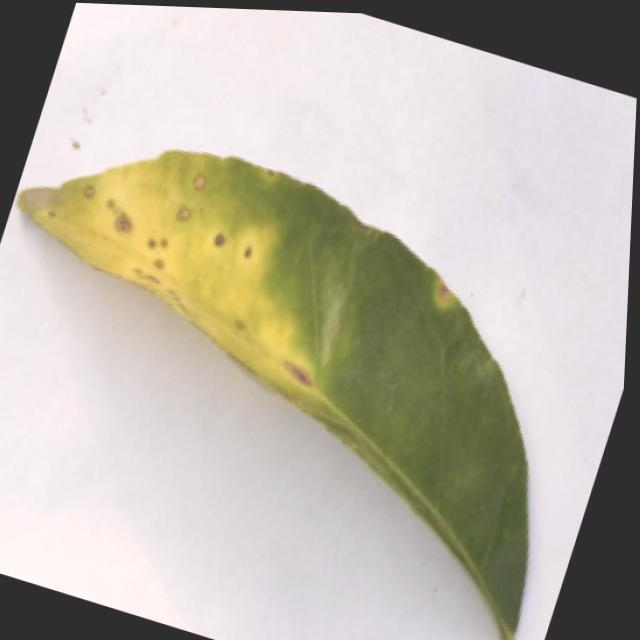canker: (19, 152, 525, 640), (52, 153, 311, 397)
